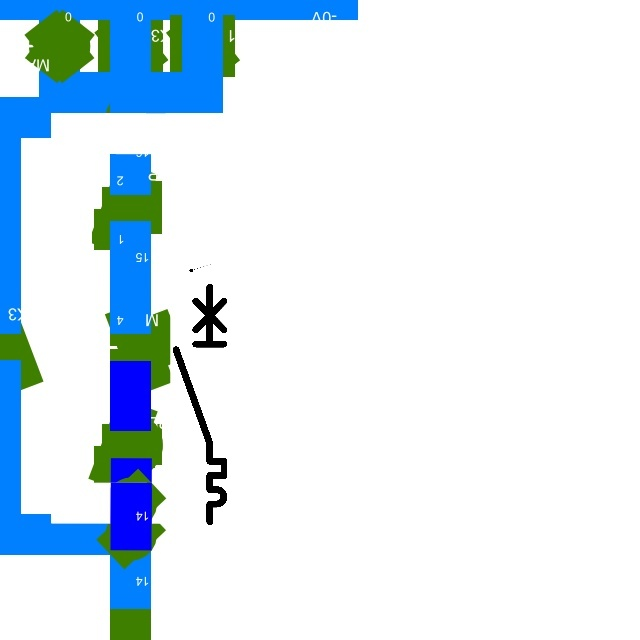interruptor_termomagnetico: (170, 280, 230, 527)
